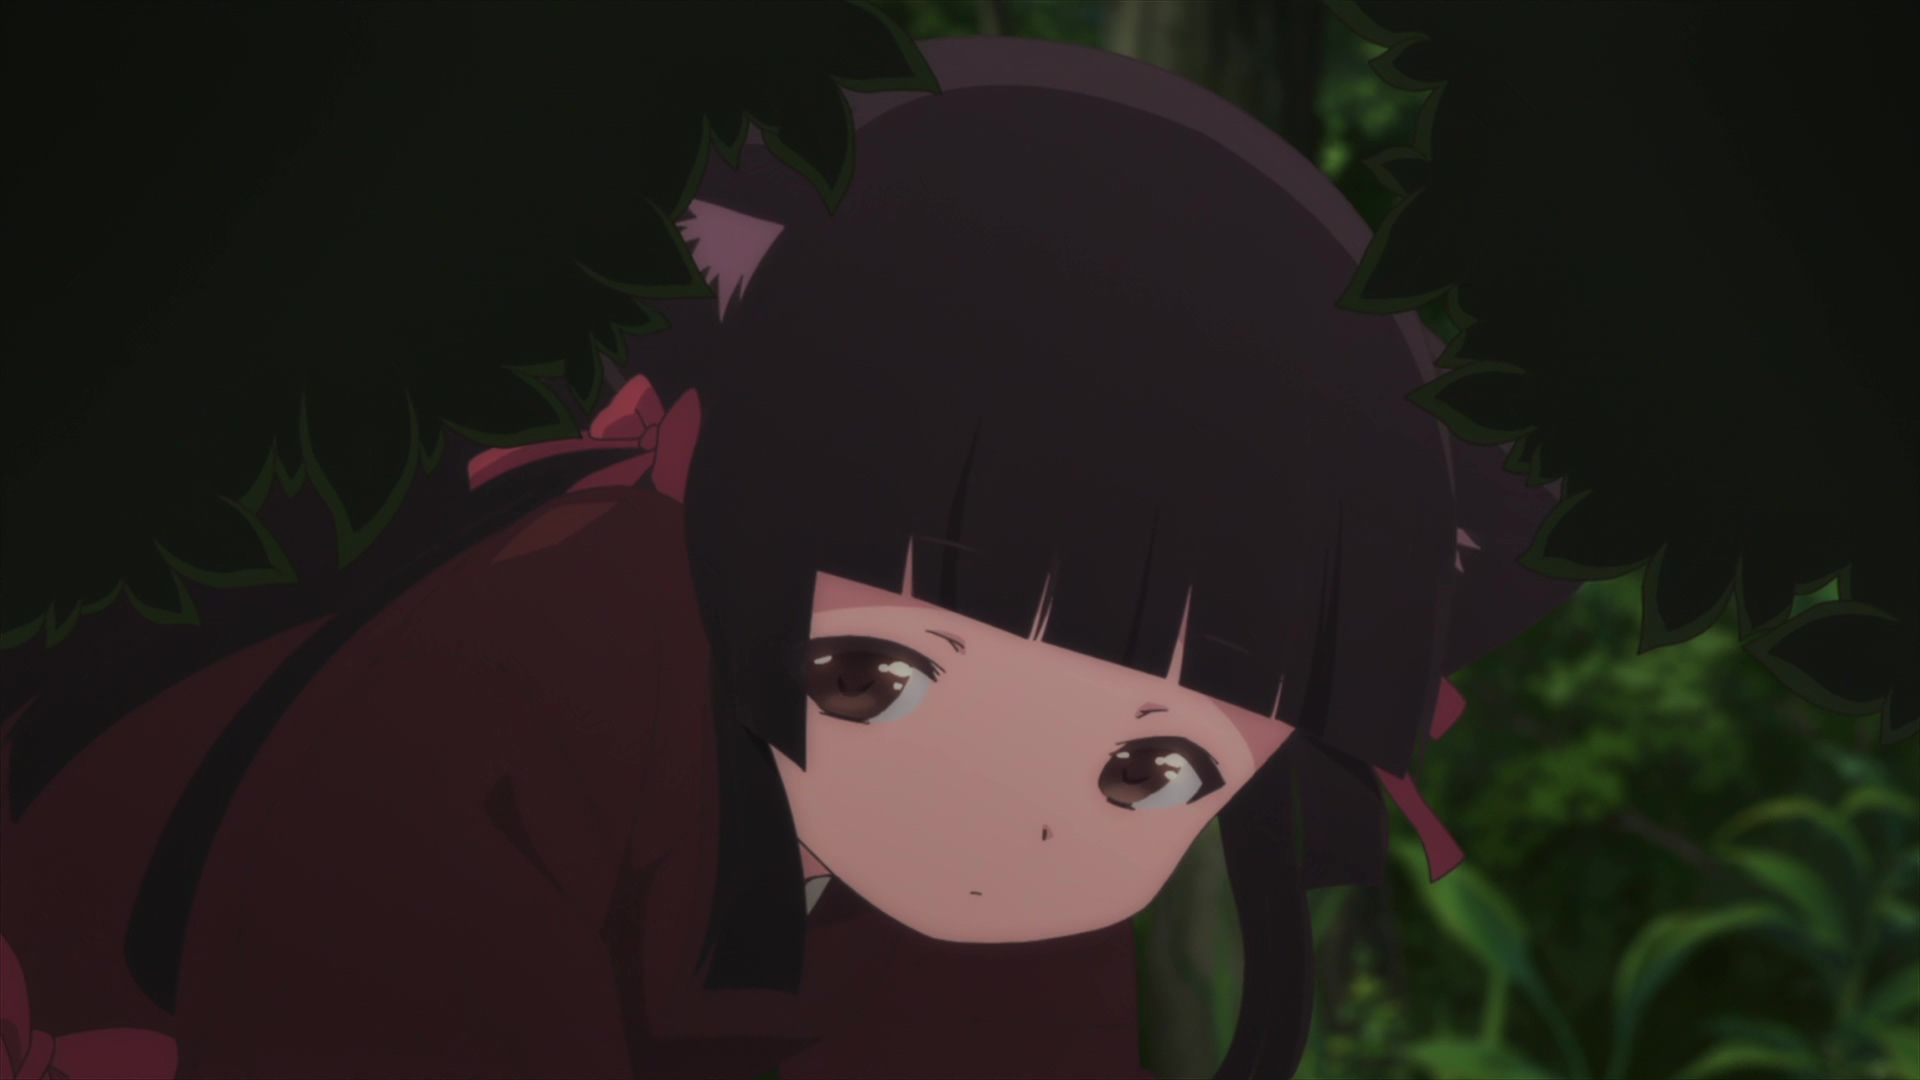樱: (1, 1, 1588, 1080)
